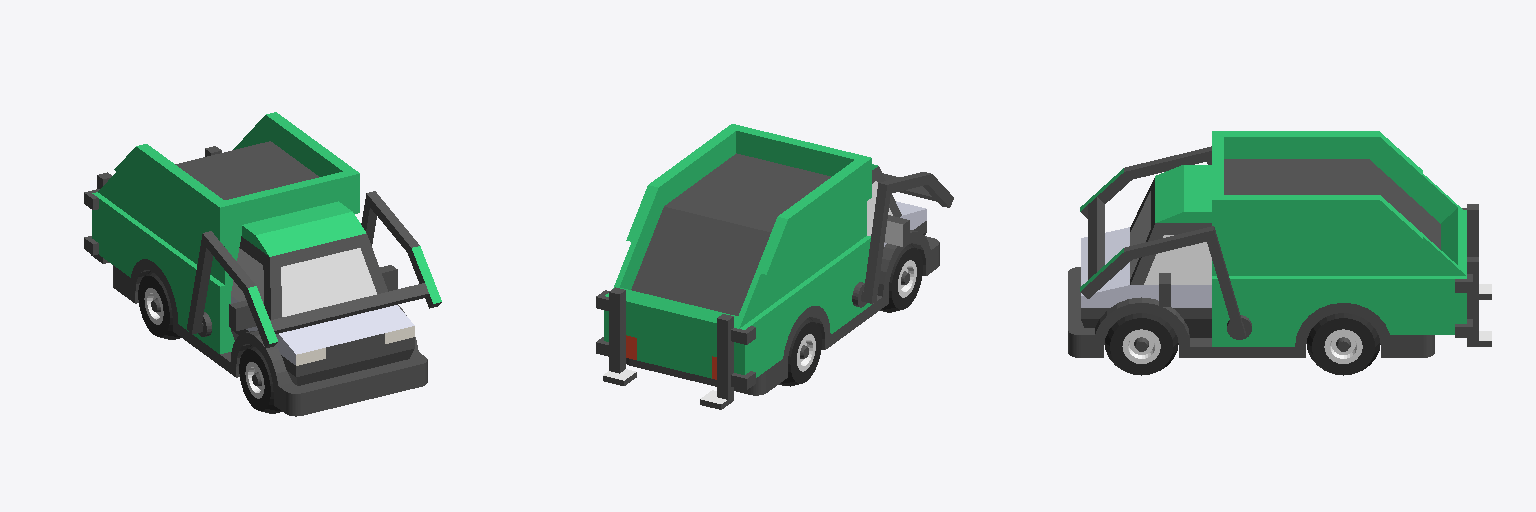
Rendered from garbageTruck.obj.
3 views of the same model, side by side, from view 1: azimuth 30°, elevation 25°; view 2: azimuth 150°, elevation 25°; view 3: azimuth 270°, elevation 25° (orthographic).
Visible parts, largest first — view 1: body, arm, wheel_backRight, wheel_frontRight; view 2: body, arm, wheel_backRight, wheel_frontRight; view 3: body, arm, wheel_frontLeft, wheel_backLeft.
Part boxes in pixels (x1,y1,x2,y2): body: (84, 112, 427, 416); arm: (187, 191, 441, 348); wheel_backRight: (138, 271, 180, 339); wheel_frontRight: (239, 345, 281, 413); body: (596, 124, 939, 409); arm: (852, 172, 953, 307); wheel_backRight: (779, 317, 821, 386); wheel_frontRight: (880, 244, 922, 312); body: (1068, 131, 1491, 357); arm: (1080, 146, 1251, 339); wheel_frontLeft: (1105, 313, 1178, 375); wheel_backLeft: (1307, 313, 1380, 375).
Bounding box in the file's own units: 1.2 × 1.2 × 2.55.